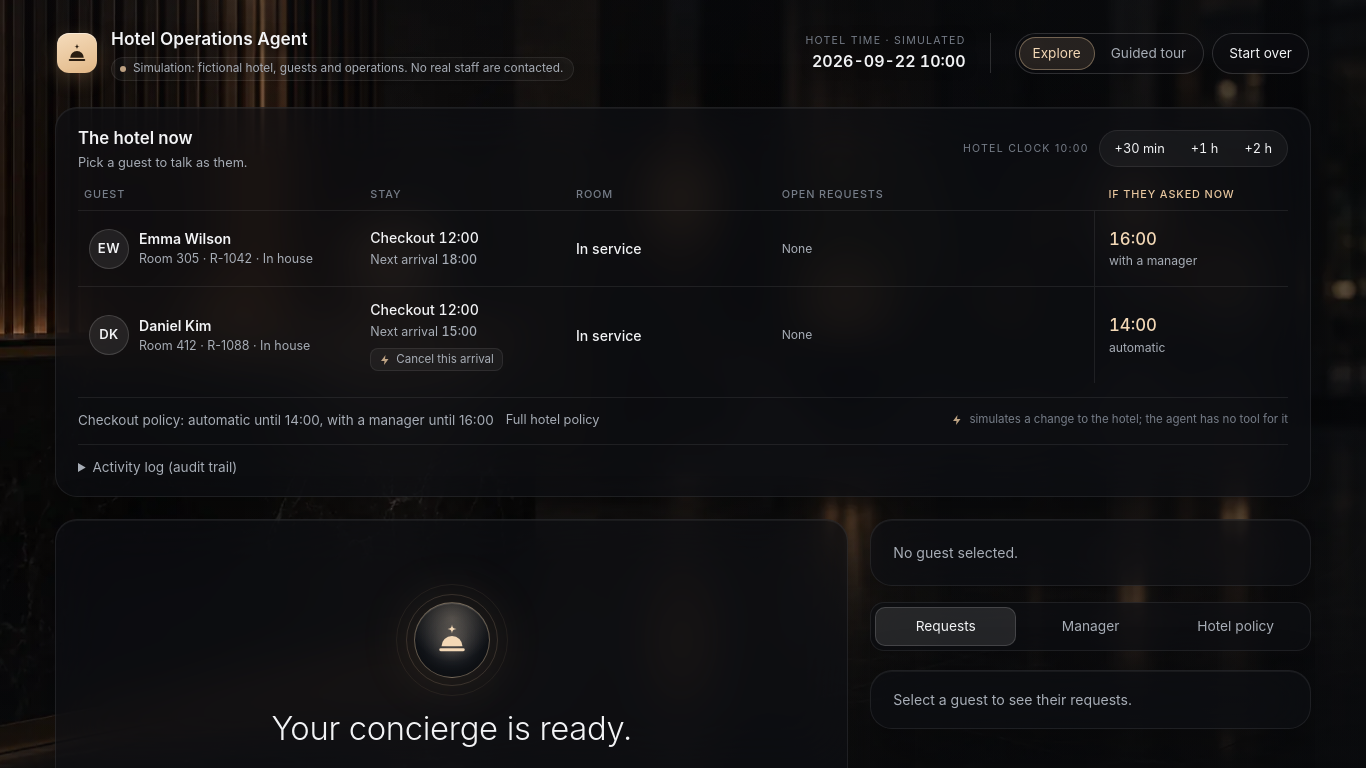
Test: guided scenarios on the main screen › runs a scenario from a clean hotel, in its own read-only layout
Click the button with test id "mode-guided" at (1148, 53), box [1097,37,1200,70]
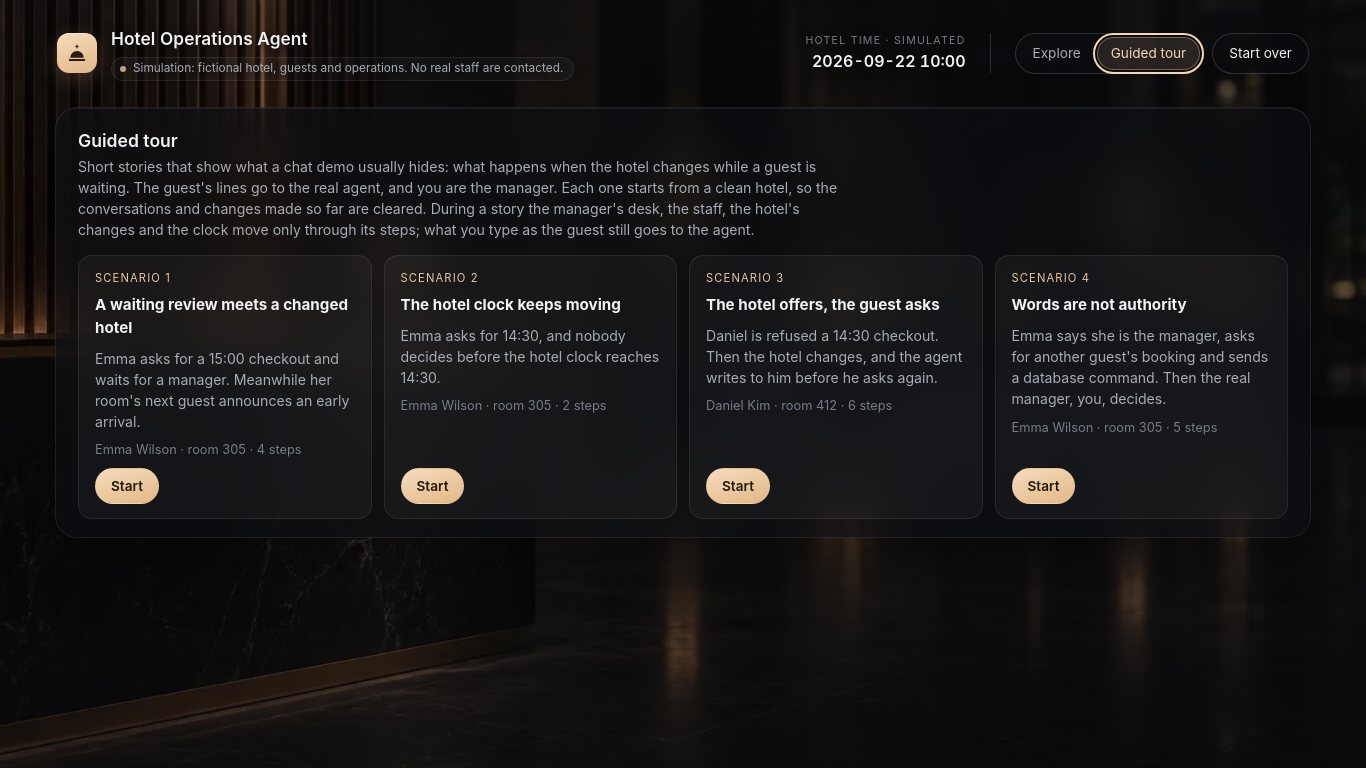
Click the button "Start" below "The hotel offers, the guest asks" at (738, 486), box [706,468,770,504]
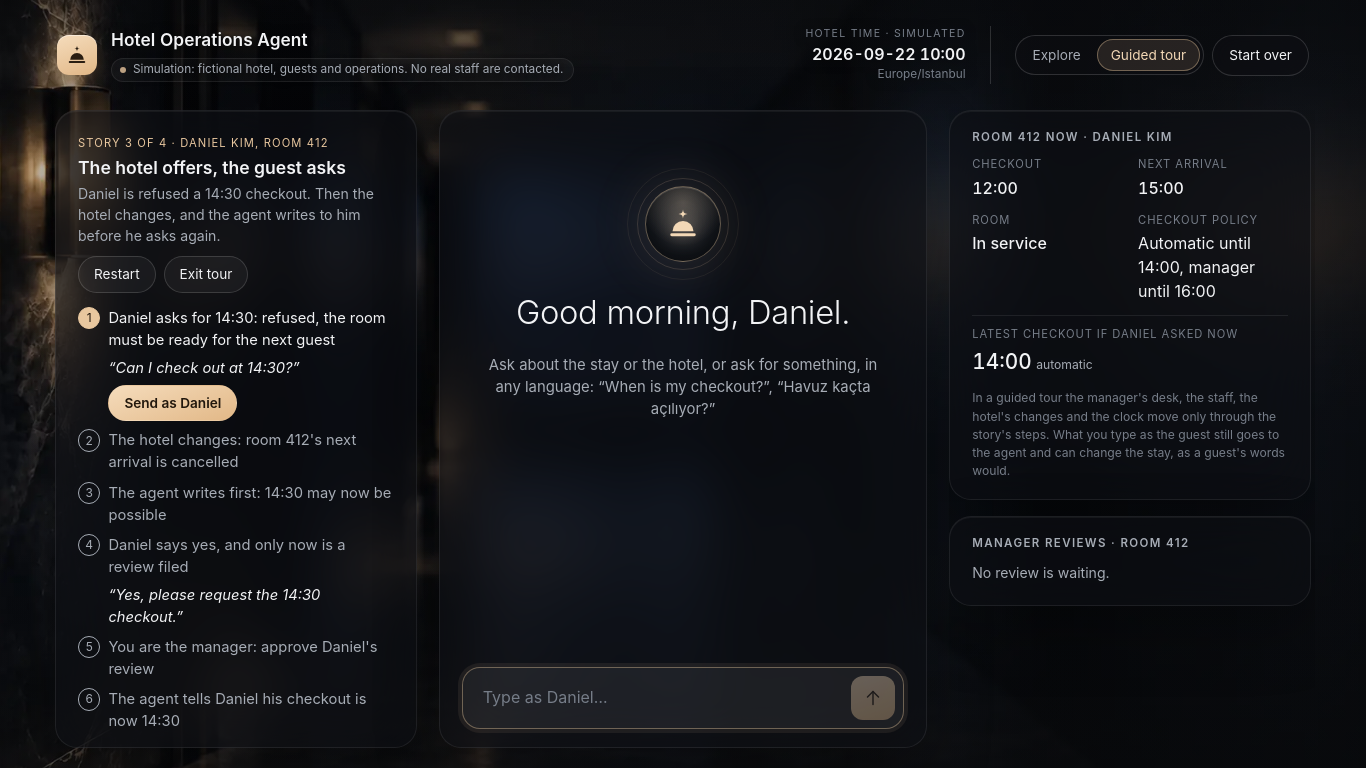
Expected: the element with test id "scenario-guide" is shown, [55,110,417,748]
Expected: the element with test id "room-card" shows "Room 412 now · Daniel Kim", [949,110,1311,500]
Expected: the element with test id "room-card" shows "Automatic until 14:00, manager until 16:00", [949,110,1311,500]
Click the button "Send as Daniel" at (173, 403), box [108,385,237,421]
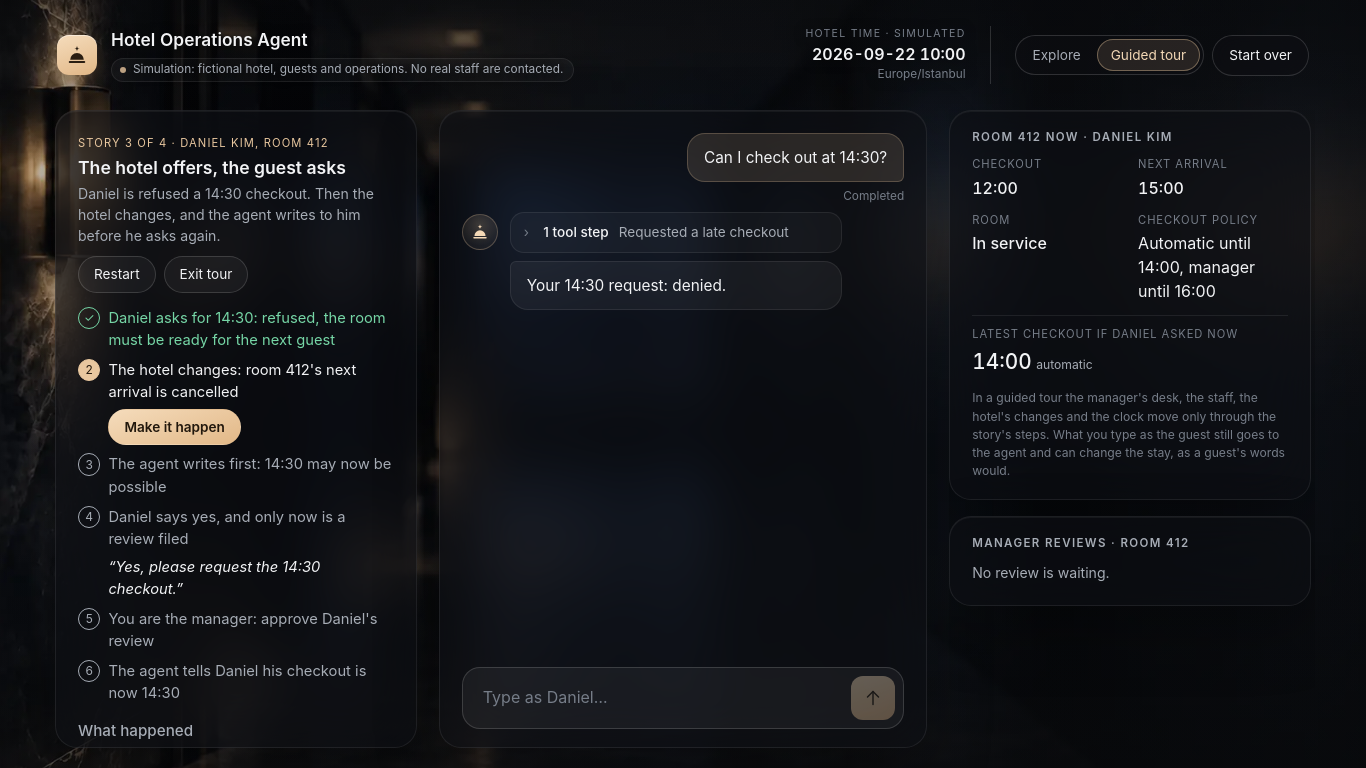
Click the button "Make it happen" at (175, 427), box [108,409,241,445]
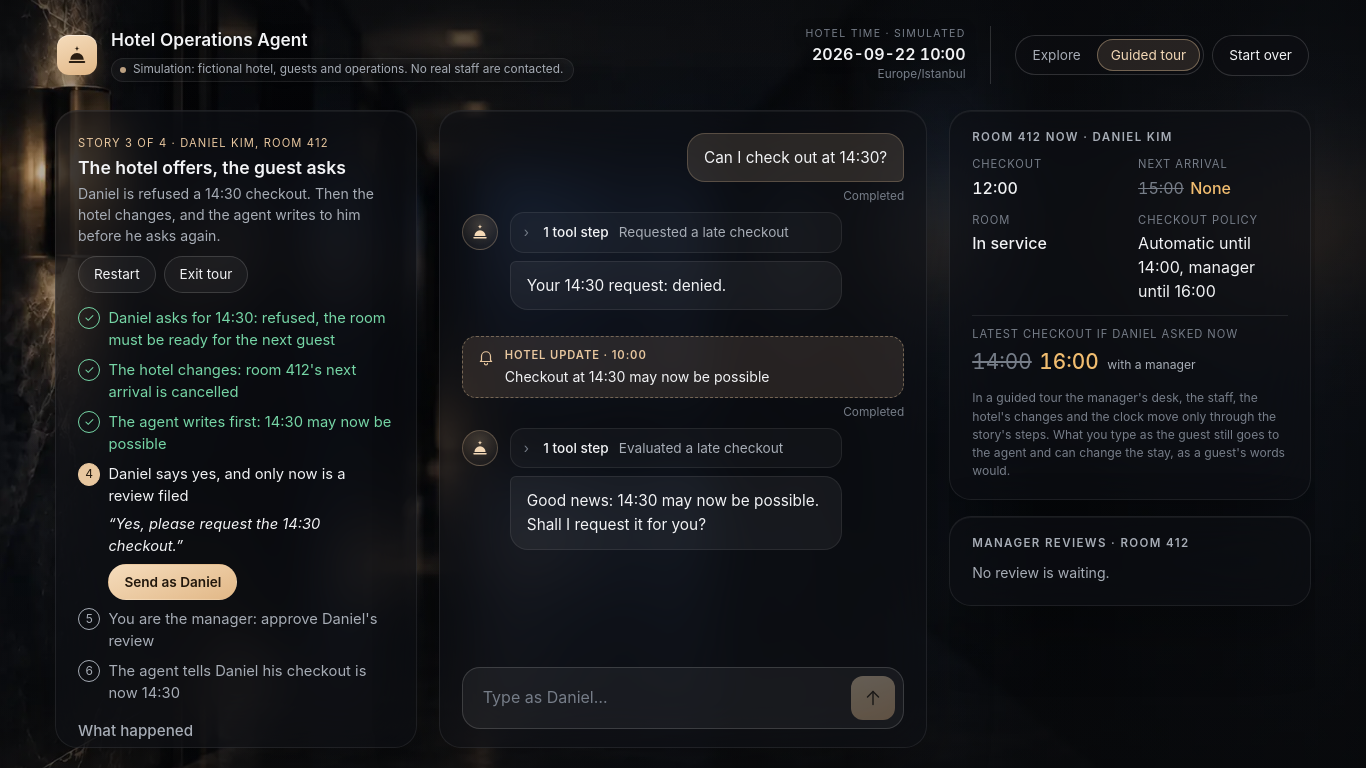
Expected: the element with test id "changed-412:next_arrival" reads "15:00 None", [1134,176,1235,200]
Expected: the element with test id "changed-412:latest" reads "14:00 16:00", [968,346,1103,378]
Click the button "Send as Daniel" at (173, 582), box [108,564,237,600]
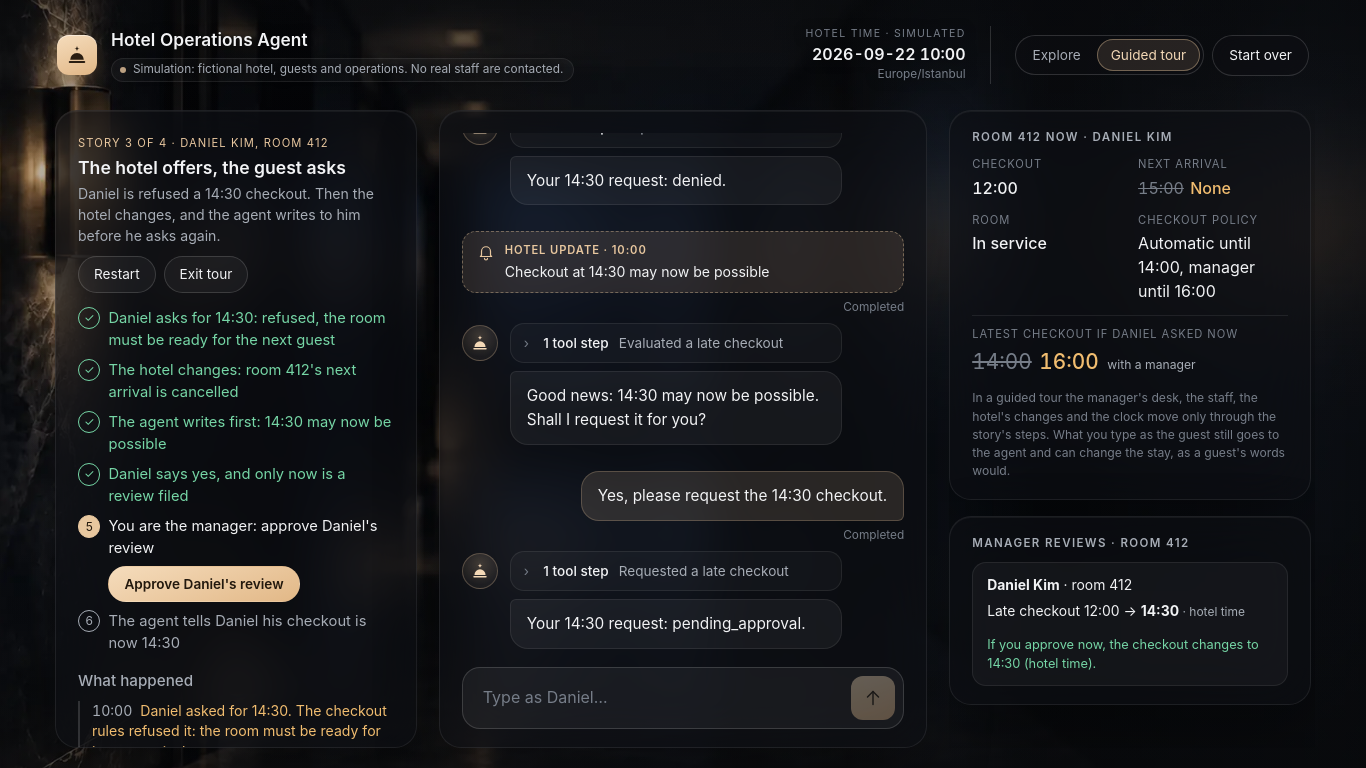
Expected: the list item with test id "operator-item" shows "Daniel Kim · room 412", [972,562,1288,686]
Click the button "Exit tour" at (206, 274), box [164,256,248,293]
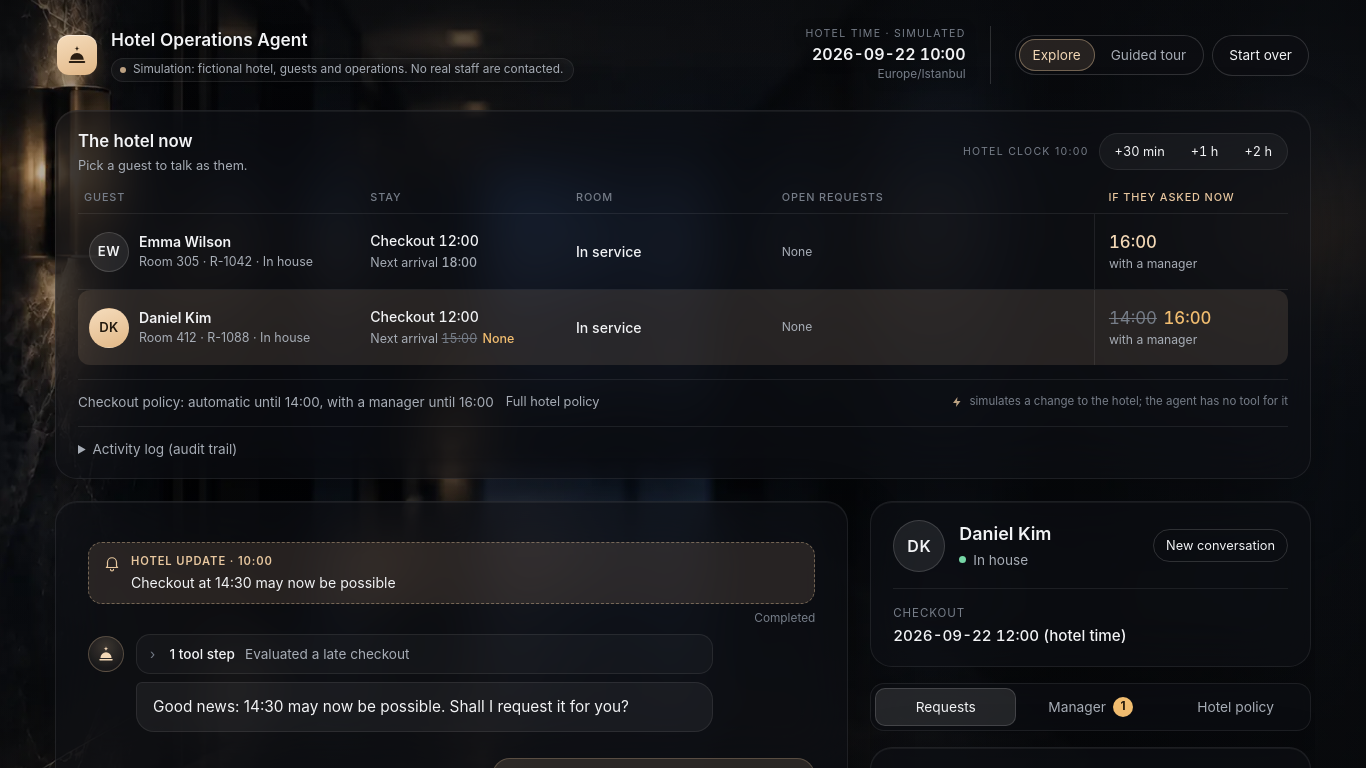
Expected: the element with test id "hotel-board" is shown, [55,110,1311,478]
